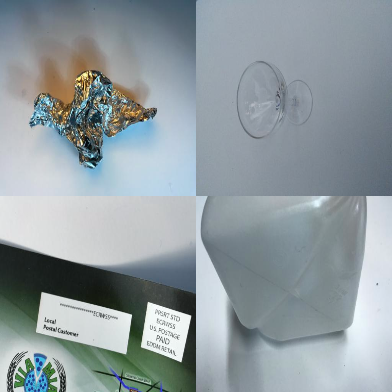glass: (237, 61, 313, 138)
metal: (29, 69, 157, 168)
paper: (1, 242, 196, 391)
plastic: (200, 195, 367, 342)
